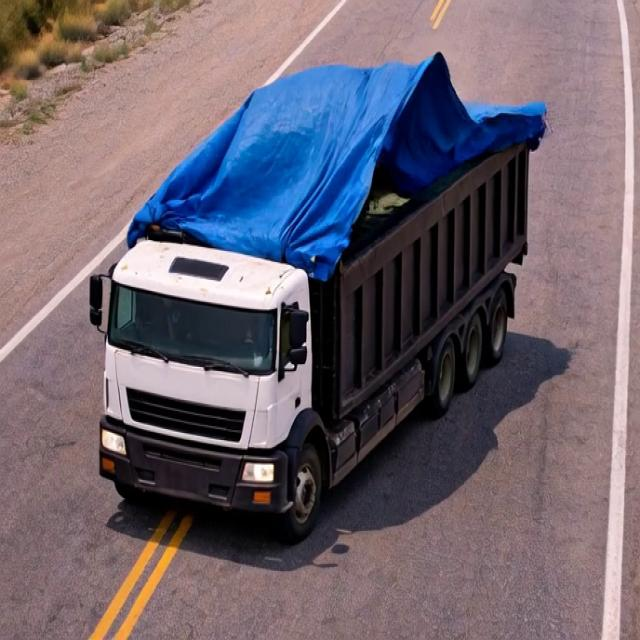Box: (131, 52, 549, 250)
Truck: (85, 30, 560, 536)
